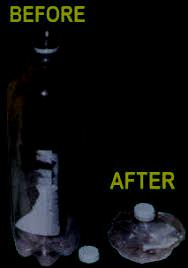Plastic: (6, 26, 85, 267), (106, 201, 187, 268)
